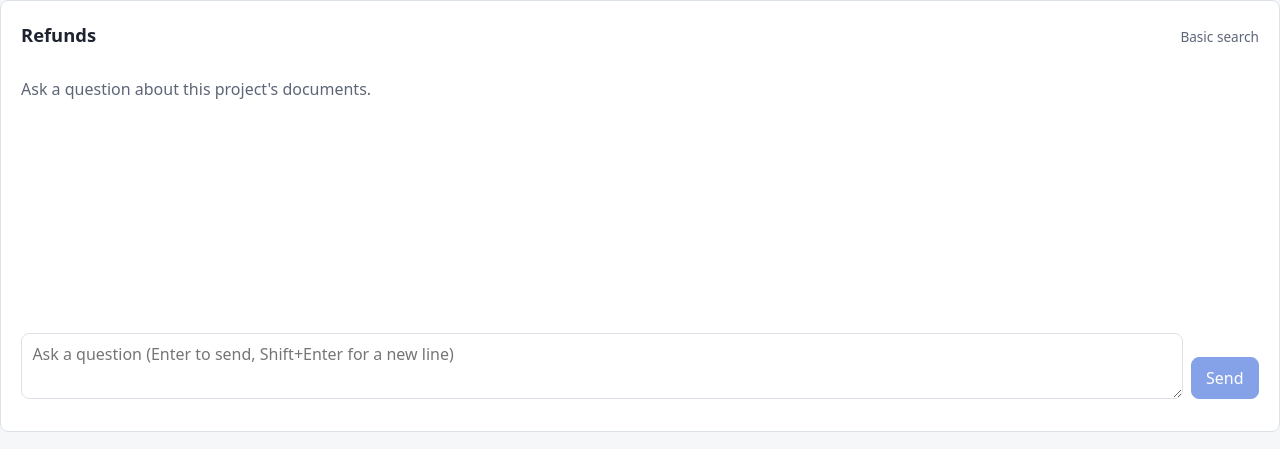
Scenario: streams an answer, links [1] to its source, and keeps it after done
The width and height of the screenshot is (1280, 449).
In the text box named "Your question": [602, 366] box [21,333,1183,399], type "How long?"
Then press Enter
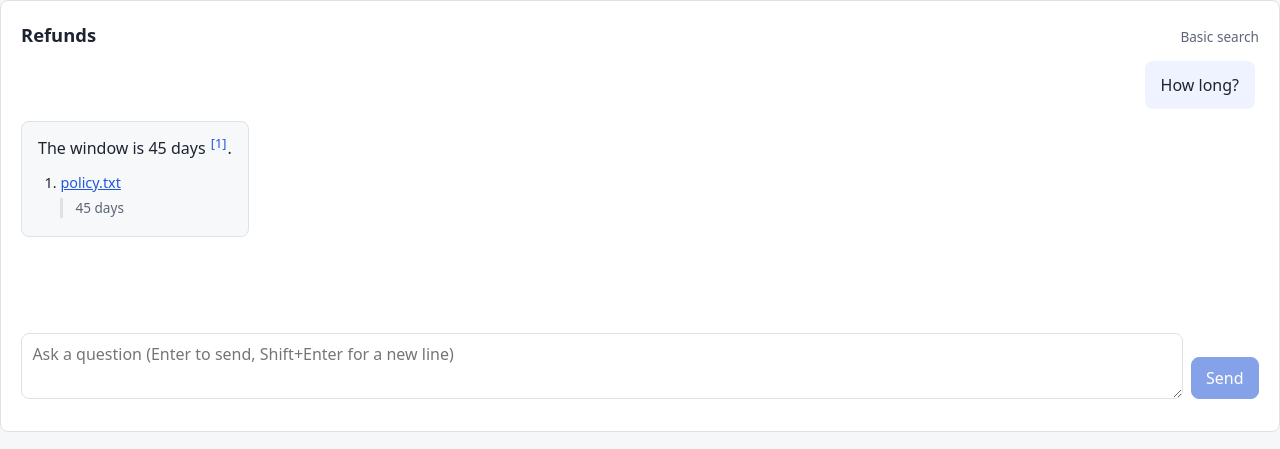
expect the text "How long?" is shown: met, box [1161,73,1239,97]
expect the element named "Source 1" reads "The window is 45 days [1] .": met, box [38,134,232,160]
